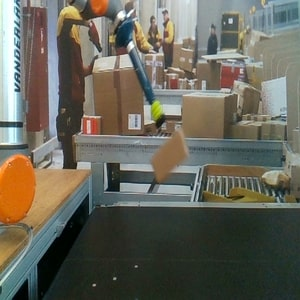box: (148, 127, 192, 185)
